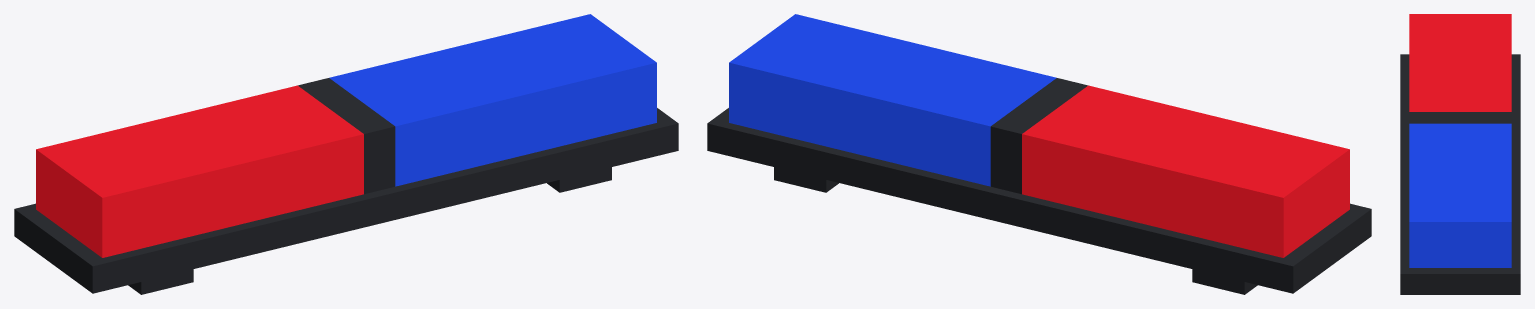
File: veh_police_lightbar.glb
3 renders of one model, left to right at view 1: azimuth 30°, elevation 25°; view 2: azimuth 150°, elevation 25°; view 3: azimuth 270°, elevation 25°, orthographic. The views are drawn at different scales.
Parts seen in each view (by area): view 1: veh_police_lightbar; view 2: veh_police_lightbar; view 3: veh_police_lightbar.
Boxes of the visible parts, x1,y1,x2,y2 form: veh_police_lightbar: [14, 14, 678, 294]; veh_police_lightbar: [707, 14, 1371, 294]; veh_police_lightbar: [1400, 14, 1520, 294].
Bounding box in the file's own units: 1.12 × 0.2 × 0.26.
